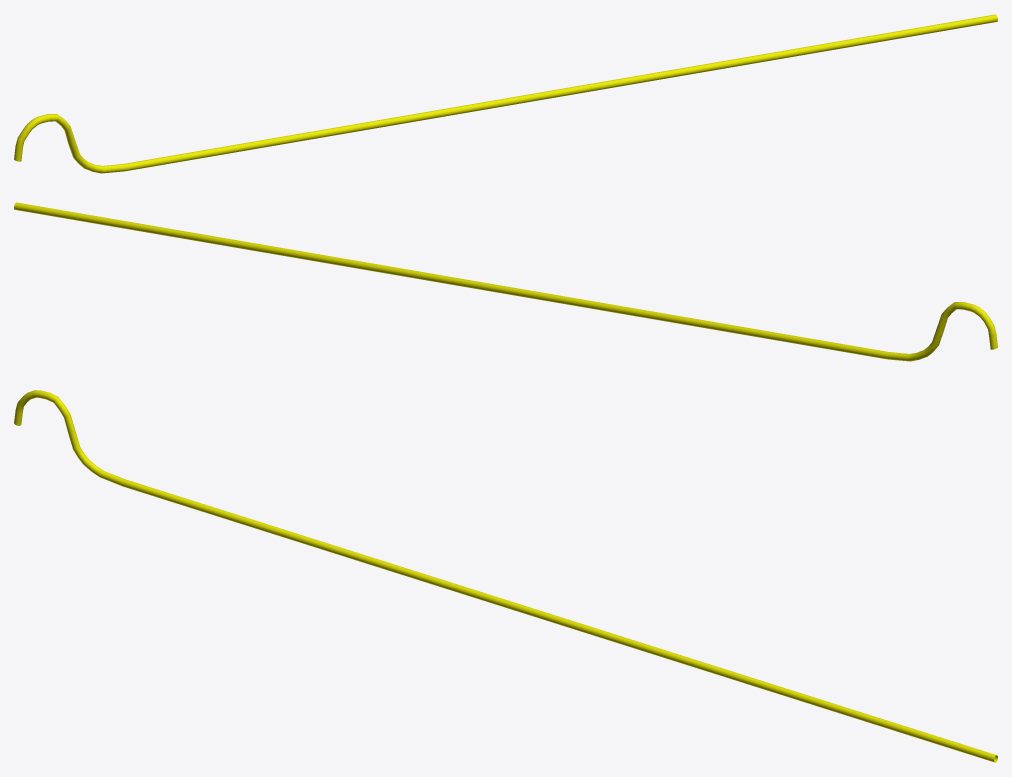
3 views of the same model, one above another, from view 1: azimuth 30°, elevation 25°; view 2: azimuth 150°, elevation 25°; view 3: azimuth 330°, elevation 25° (orthographic).
Visible parts, largest first — view 1: pasted__pasted__shuiguan; view 2: pasted__pasted__shuiguan; view 3: pasted__pasted__shuiguan.
Boxes of the visible parts, x1=… form: pasted__pasted__shuiguan: x1=14, y1=14, x2=997, y2=173; pasted__pasted__shuiguan: x1=14, y1=202, x2=997, y2=361; pasted__pasted__shuiguan: x1=14, y1=390, x2=997, y2=762.
Bounding box in the file's own units: 617 × 83.17 × 4.48.
